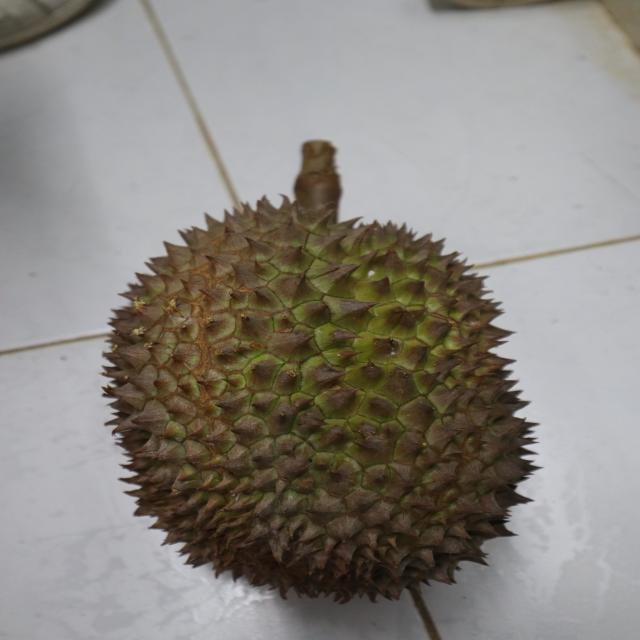mature: (98, 191, 543, 600)
